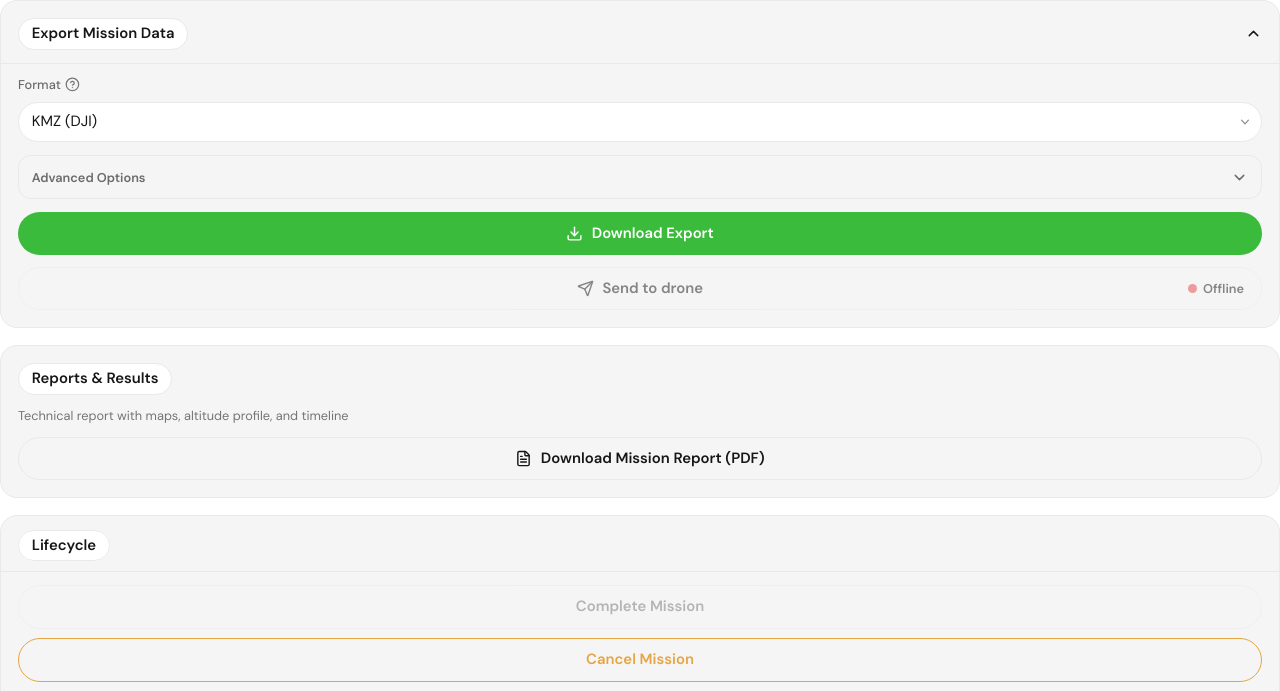
Test case: ExportPanel - dji heading mode picker › renders the picker when KMZ is selected on a DJI mission
This screenshot has width=1280, height=691.
Click the button with test id "advanced-options-toggle".
click(89, 177)  # box [32,168,1248,186]
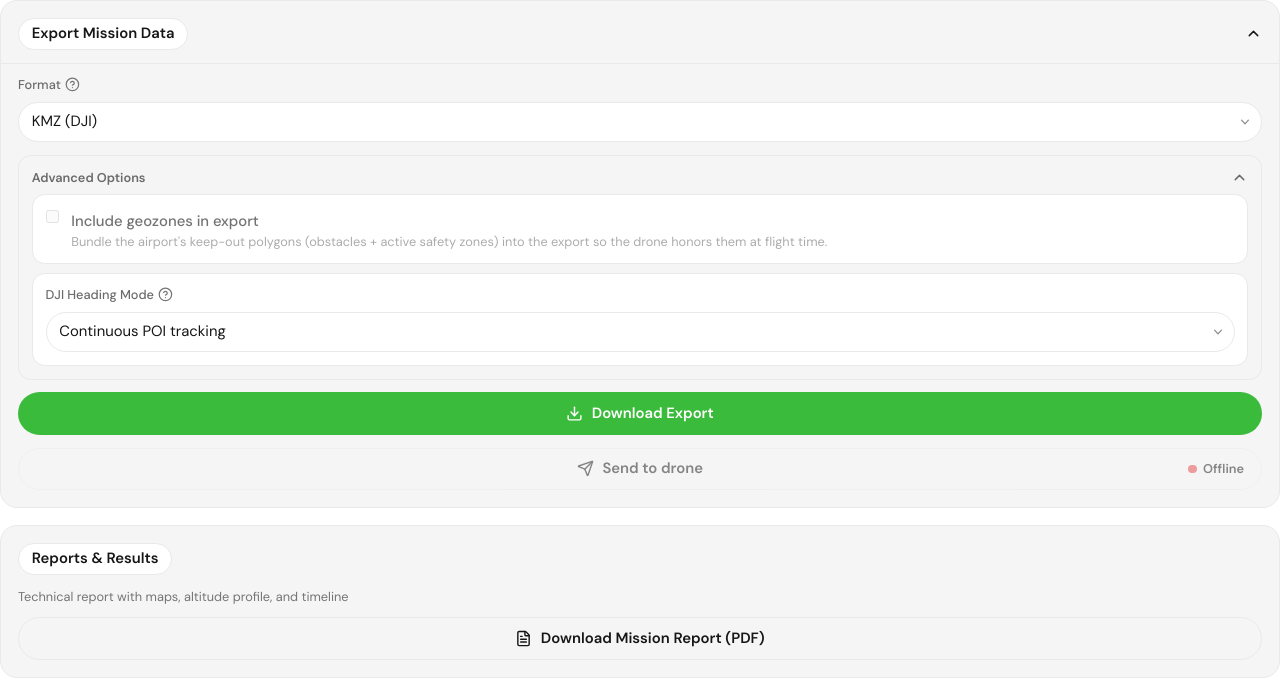
Expected: the dropdown with test id "dji-heading-mode-select" is shown, [46,312,1234,352]
